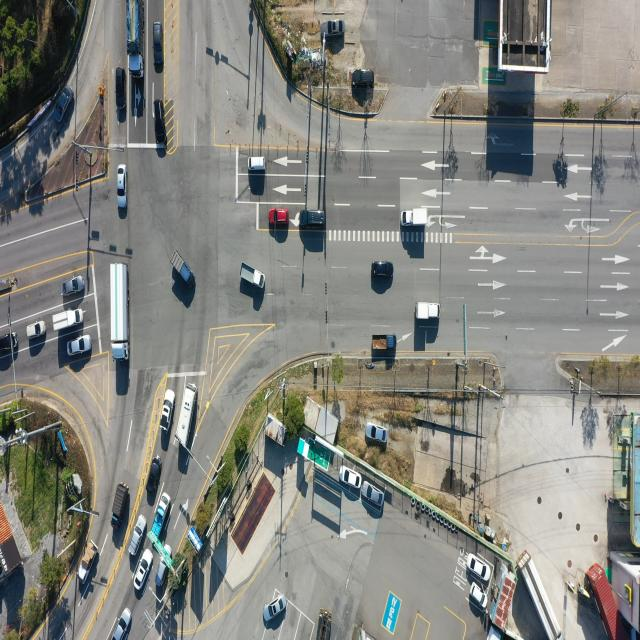car: (135, 548, 153, 589), (146, 457, 162, 503), (130, 514, 147, 556), (110, 607, 131, 640), (155, 100, 168, 150), (264, 595, 286, 624), (162, 390, 176, 435), (470, 556, 493, 582), (299, 209, 326, 229), (362, 484, 384, 508), (67, 336, 92, 357), (472, 580, 490, 608), (341, 465, 362, 488), (63, 276, 85, 297), (153, 20, 163, 66), (0, 333, 17, 359), (116, 163, 126, 207), (115, 67, 125, 110), (352, 69, 375, 87), (364, 424, 386, 442), (26, 320, 46, 339), (371, 263, 393, 280), (322, 19, 344, 36), (156, 561, 168, 588), (270, 210, 289, 224), (248, 158, 265, 172)
medium_truck: (522, 557, 564, 640), (112, 264, 132, 362), (127, 0, 142, 77), (316, 607, 331, 640)
small_bus: (178, 384, 200, 448)
small_truck: (150, 492, 171, 546), (76, 540, 98, 584), (112, 482, 132, 528), (51, 307, 83, 332), (238, 263, 264, 291), (172, 252, 192, 285), (402, 208, 429, 228), (416, 302, 441, 322), (373, 334, 397, 352)
